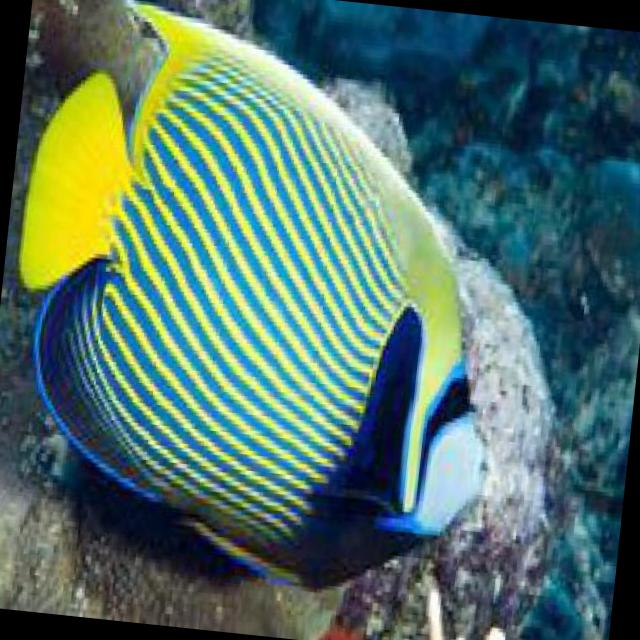AngelFish: (0, 0, 529, 608)
